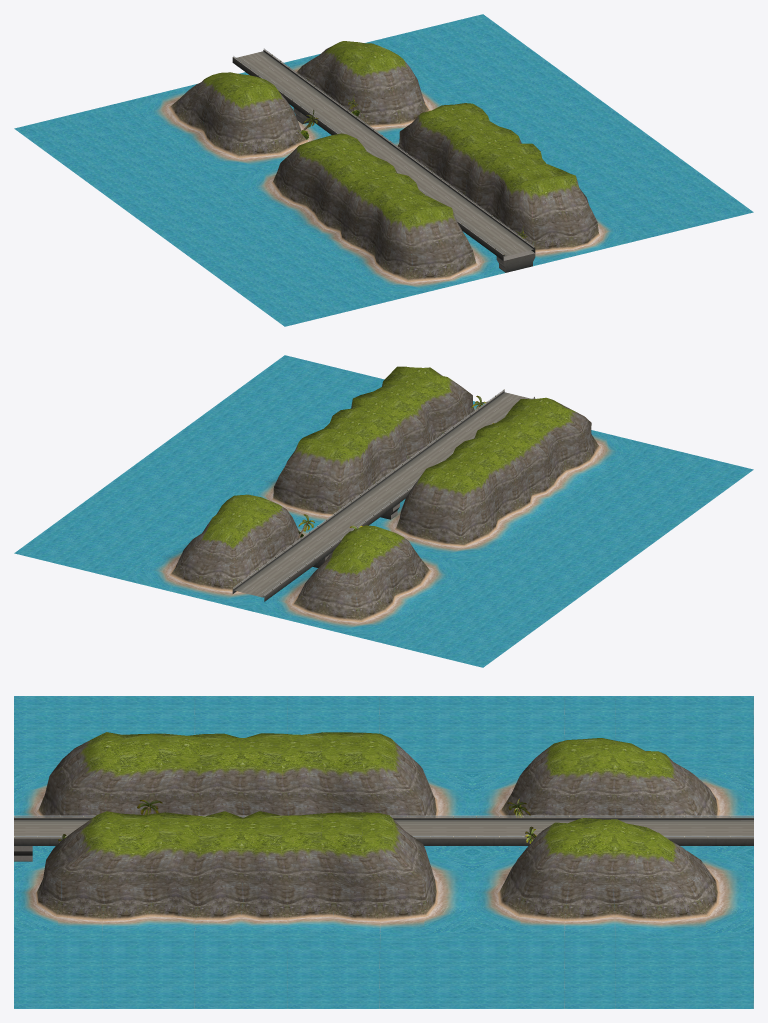
File: Track09_Low.FBX
The picture shows the model from 3 angles, top to bottom: view 1: azimuth 30°, elevation 25°; view 2: azimuth 150°, elevation 25°; view 3: azimuth 270°, elevation 25°; orthographic projection. The views are drawn at different scales.
Visible parts, largest first — view 1: Ground, Road (×2), Pillar; view 2: Ground, Road (×2); view 3: Ground, Road (×2).
Boxes of the visible parts, box(x1,y1,x2,y2) form: Ground: box(14, 14, 753, 326); Road (×2): box(232, 48, 535, 260); Pillar: box(496, 250, 535, 272); Ground: box(14, 355, 753, 667); Road (×2): box(232, 389, 535, 601); Ground: box(14, 696, 753, 1008); Road (×2): box(14, 815, 753, 845).
Size of the model in its own units: 6300 by 713 by 6300.
